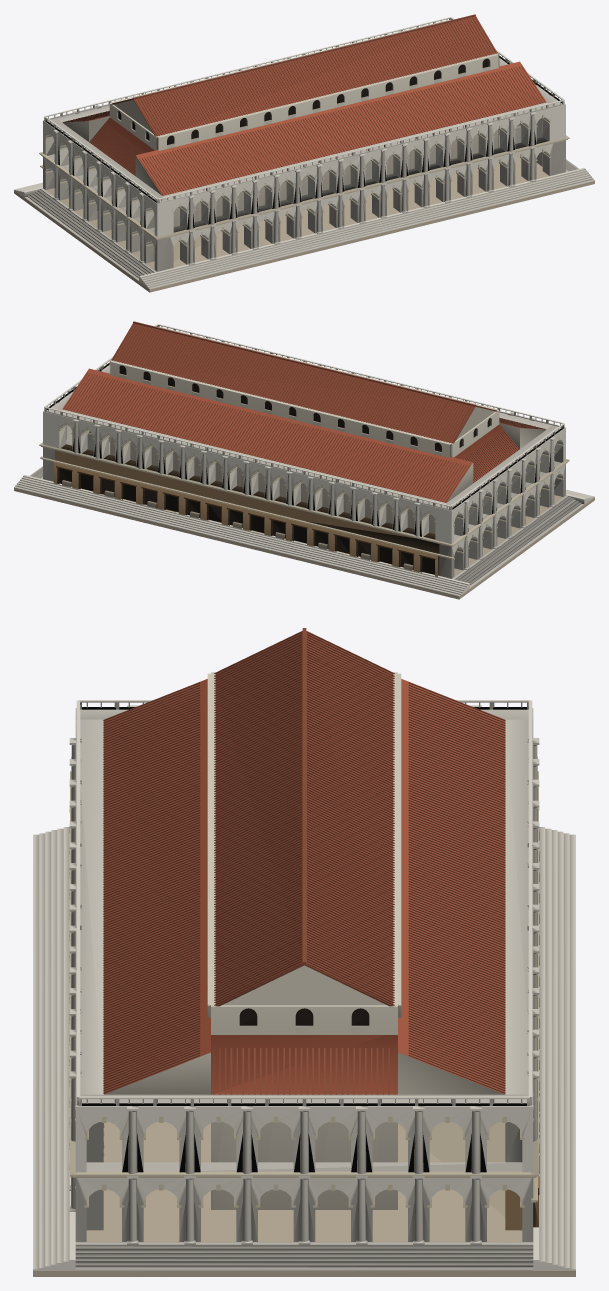
The model's file is rome_basilica_julia.glb.
3 views of the same model, one above another, from view 1: azimuth 30°, elevation 25°; view 2: azimuth 150°, elevation 25°; view 3: azimuth 270°, elevation 25° (orthographic). The views are drawn at different scales.
Parts seen in each view (by area): view 1: rome_basilica_julia; view 2: rome_basilica_julia; view 3: rome_basilica_julia.
Boxes of the visible parts, box(x1,y1,x2,y2) form: rome_basilica_julia: box(14, 14, 594, 292); rome_basilica_julia: box(14, 321, 594, 599); rome_basilica_julia: box(33, 628, 575, 1276).
Size of the model in its own units: 110 by 31.25 by 58.1.
